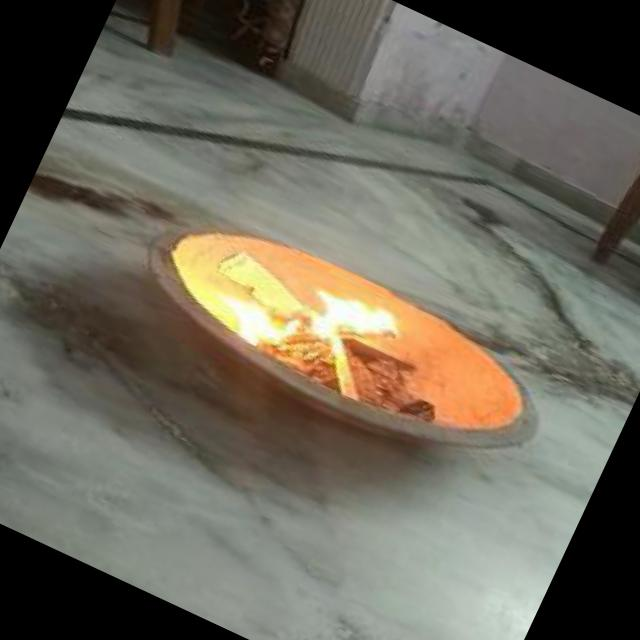fire: (183, 219, 410, 413)
